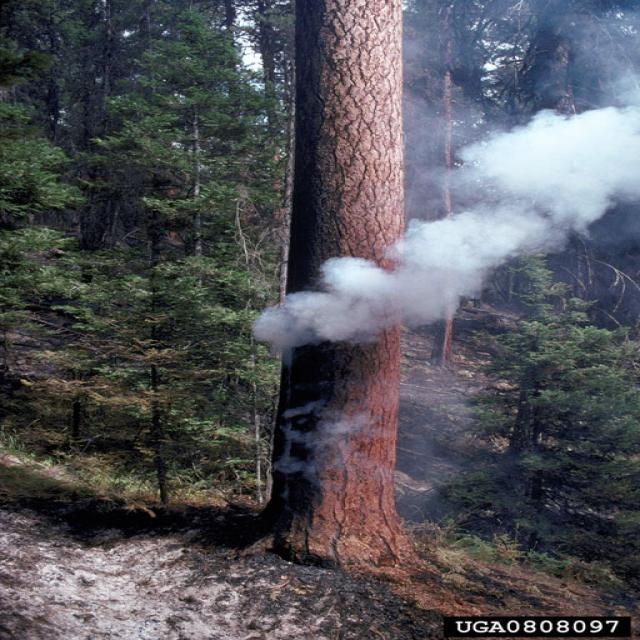Smoke: (250, 106, 640, 352)
